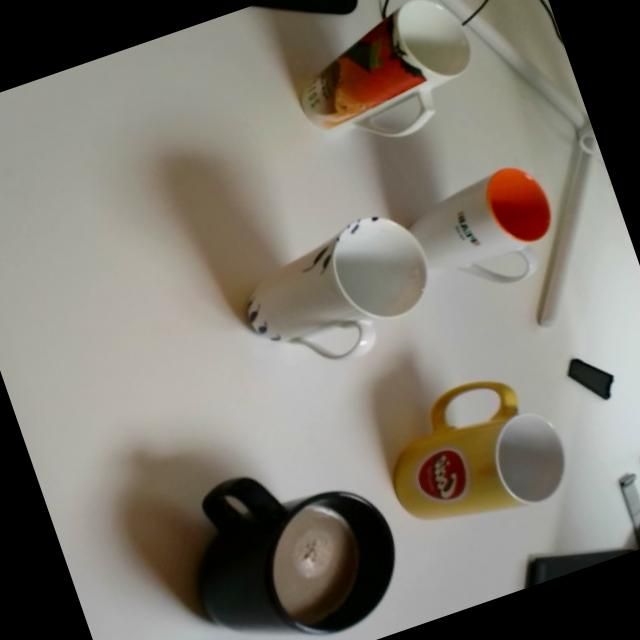Cocio Cup: (364, 358, 578, 547)
Halloween cup: (278, 0, 491, 163)
Hand painted cup: (225, 205, 446, 388)
White Cup: (396, 156, 572, 312)
cup: (161, 434, 417, 640)
